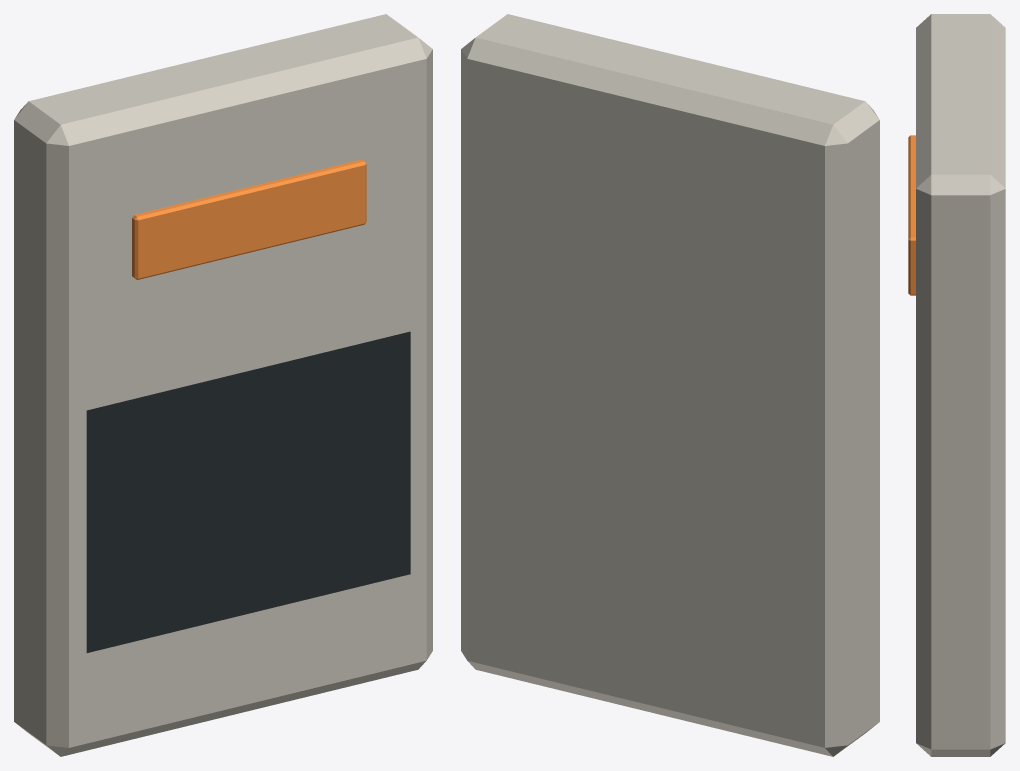
Rendered from door_status_panel.glb.
The picture shows the model from 3 angles, left to right: view 1: azimuth 30°, elevation 25°; view 2: azimuth 150°, elevation 25°; view 3: azimuth 270°, elevation 25°; orthographic projection. The views are drawn at different scales.
Parts seen in each view (by area): view 1: status_housing, status_face, status_indicator_lens; view 2: status_housing; view 3: status_housing, status_indicator_lens.
Part boxes in pixels (x1,y1,x2,y2): status_housing: [14, 14, 432, 756]; status_face: [86, 331, 410, 652]; status_indicator_lens: [132, 159, 366, 279]; status_housing: [461, 14, 879, 756]; status_housing: [916, 14, 1005, 756]; status_indicator_lens: [908, 135, 915, 295].
Size of the model in its own units: 0.16 by 0.25 by 0.038.
